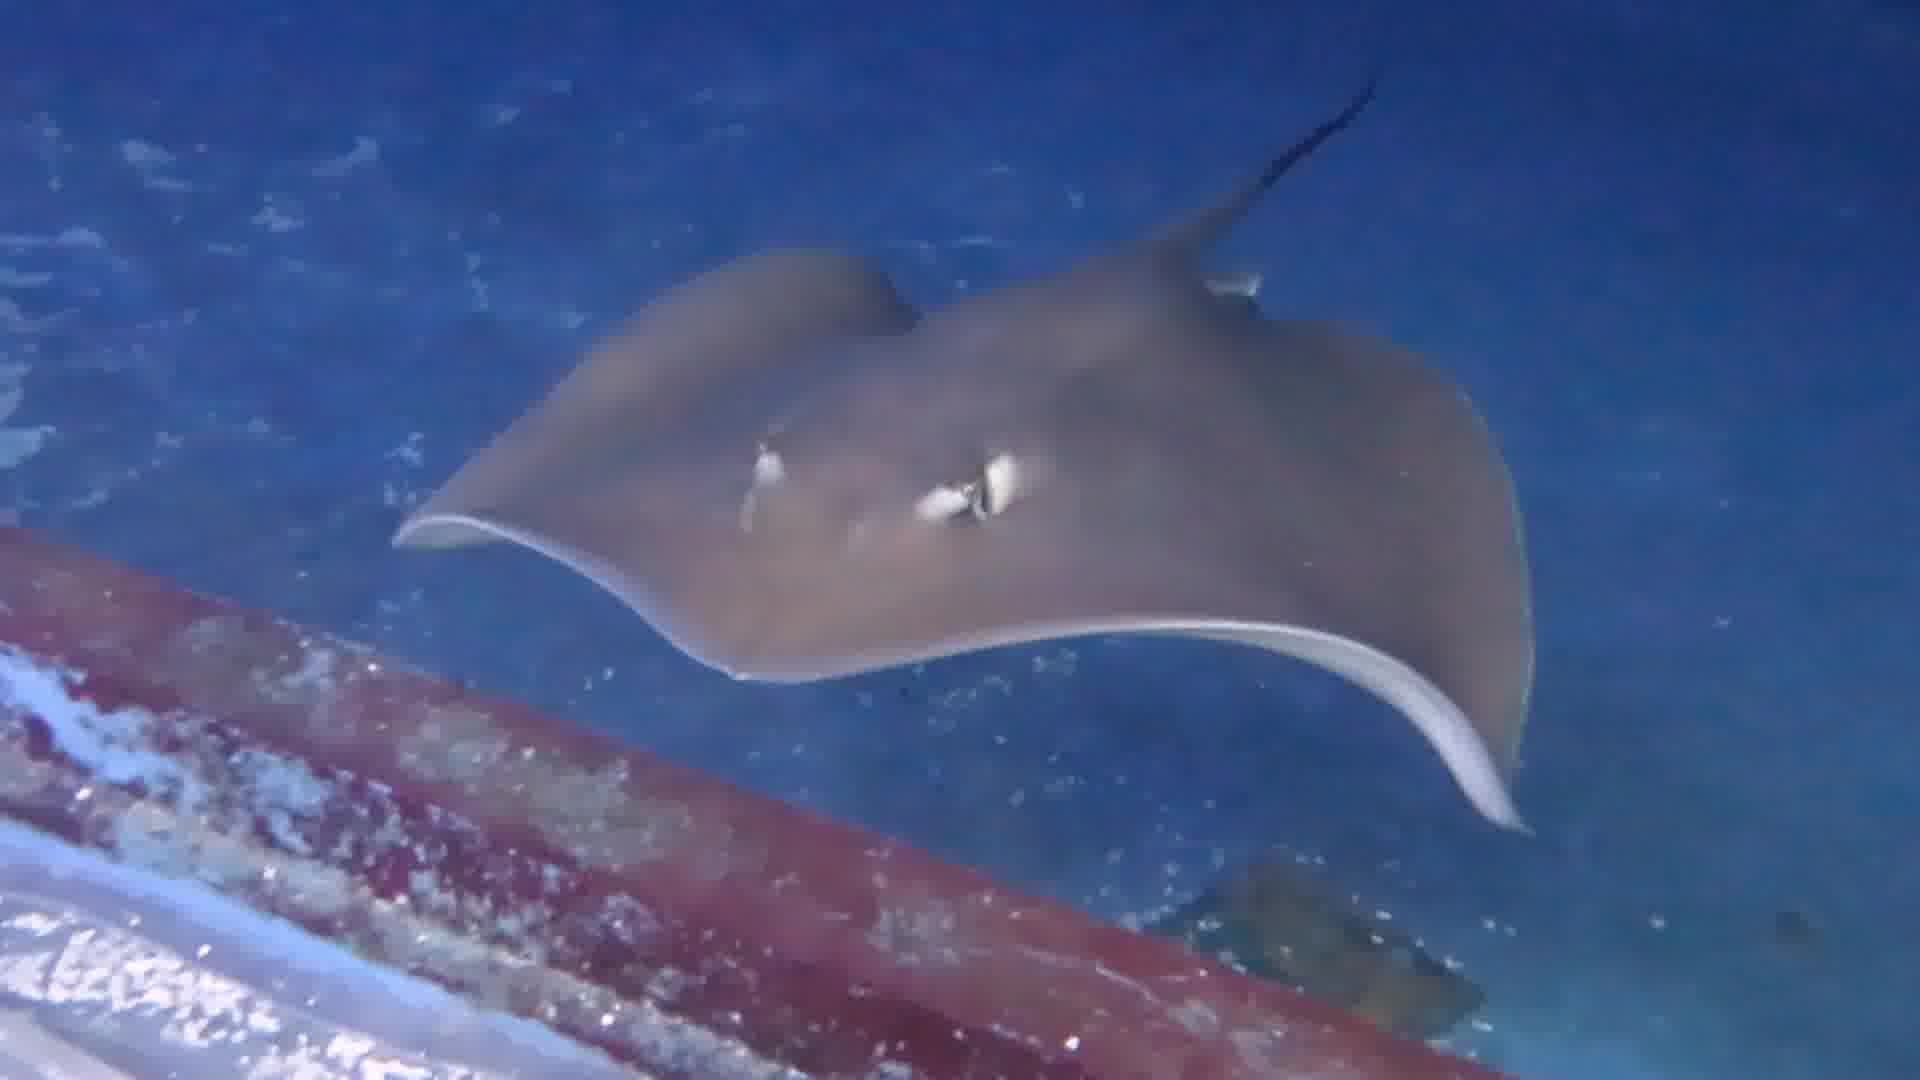Dasyatis akajei: (316, 87, 1639, 858)
